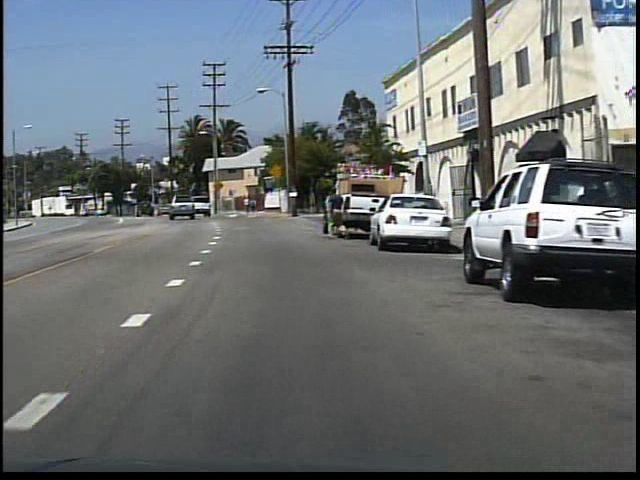person: (323, 185, 346, 242), (241, 195, 251, 217), (248, 196, 259, 214)
